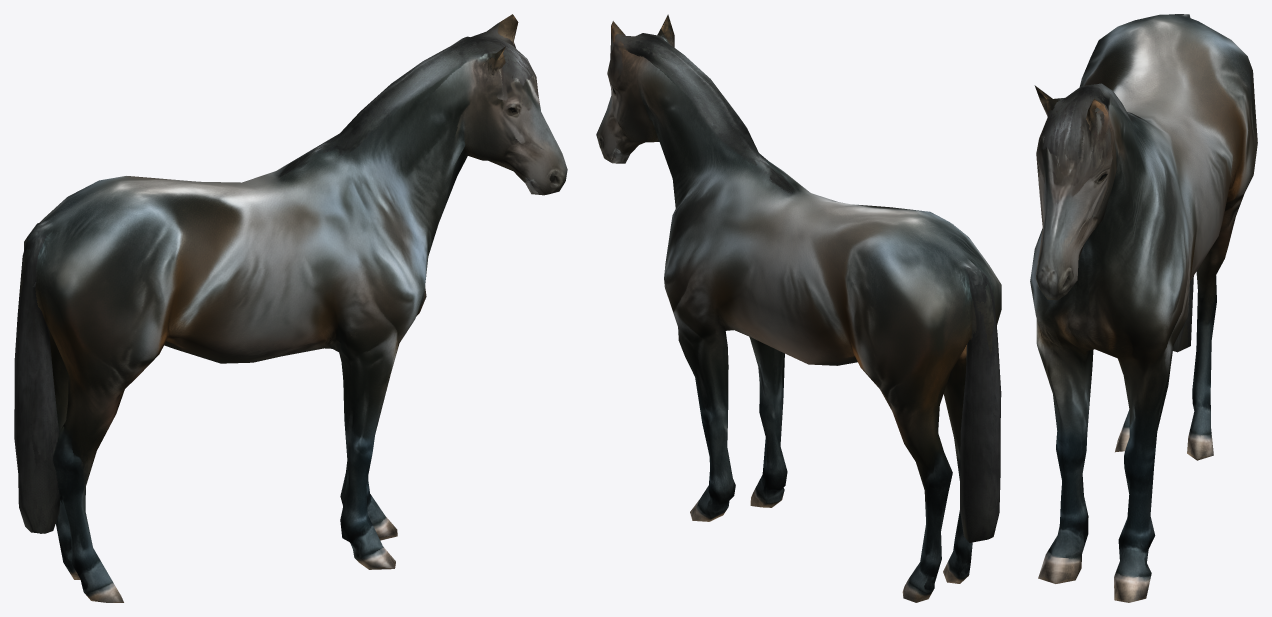
Rendered from horse_black_single_1500.glb.
3 views of the same model, side by side, from view 1: azimuth 30°, elevation 25°; view 2: azimuth 150°, elevation 25°; view 3: azimuth 270°, elevation 25° (orthographic). The views are drawn at different scales.
Size of the model in its own units: 0.8768 by 0.8548 by 0.3141.
1 material, 1 textured.
